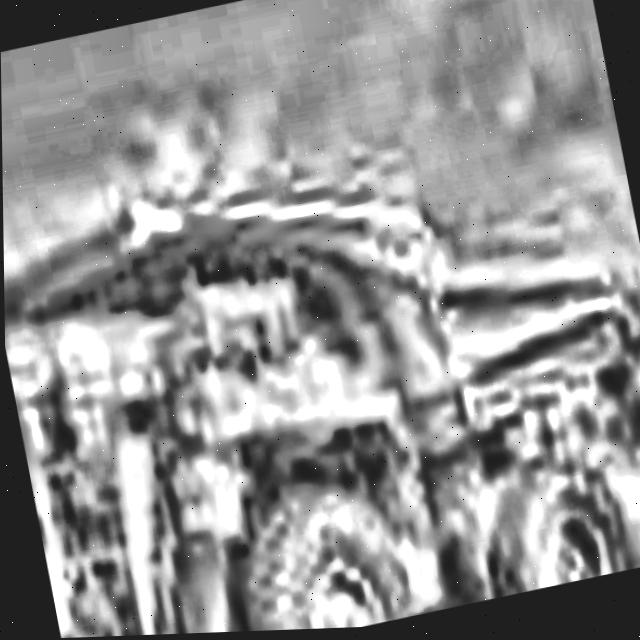dump_truck: (1, 87, 640, 640)
